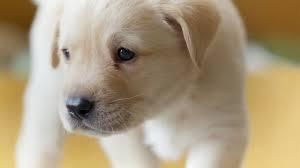Dog: (47, 0, 225, 136)
